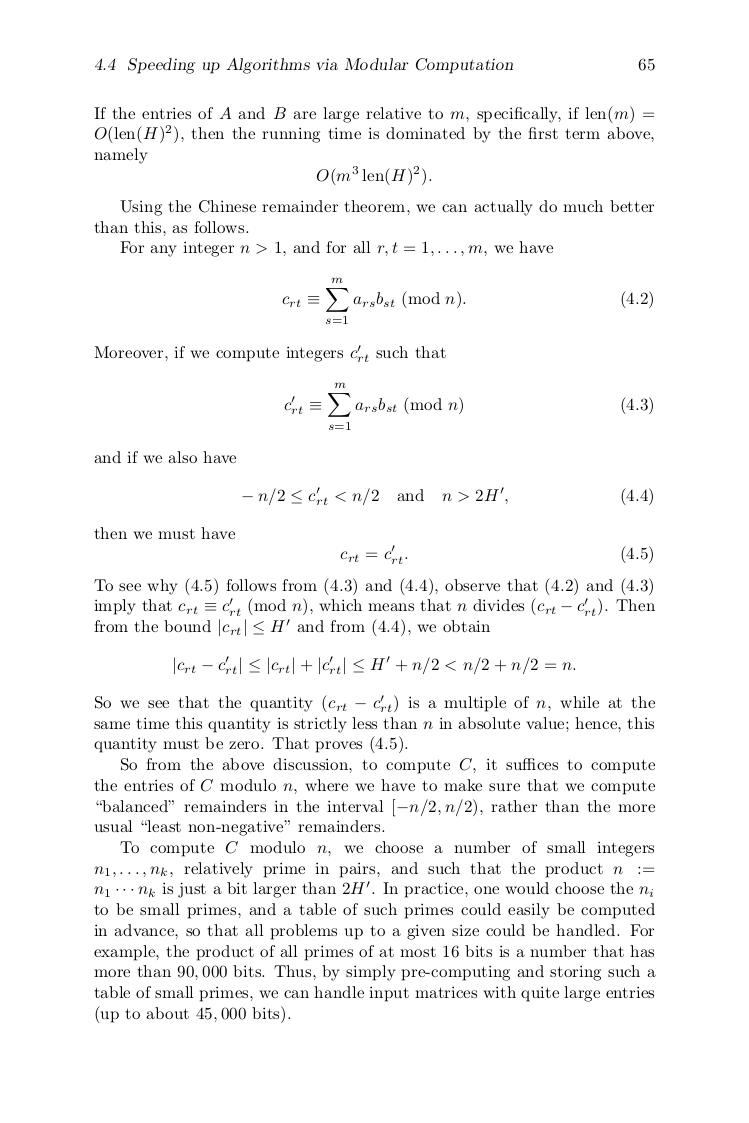formula: (284, 382, 652, 429), (282, 277, 652, 323), (242, 486, 652, 506), (174, 655, 575, 675), (340, 544, 652, 564), (316, 166, 431, 185)
